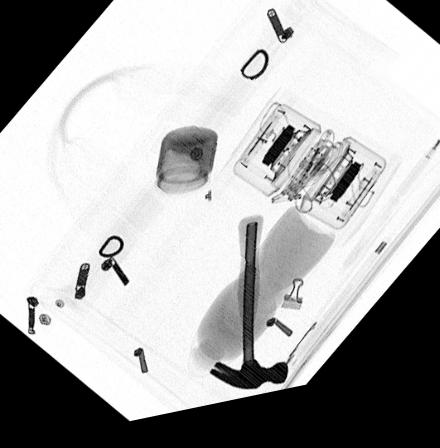Hammer: (208, 224, 287, 399)
